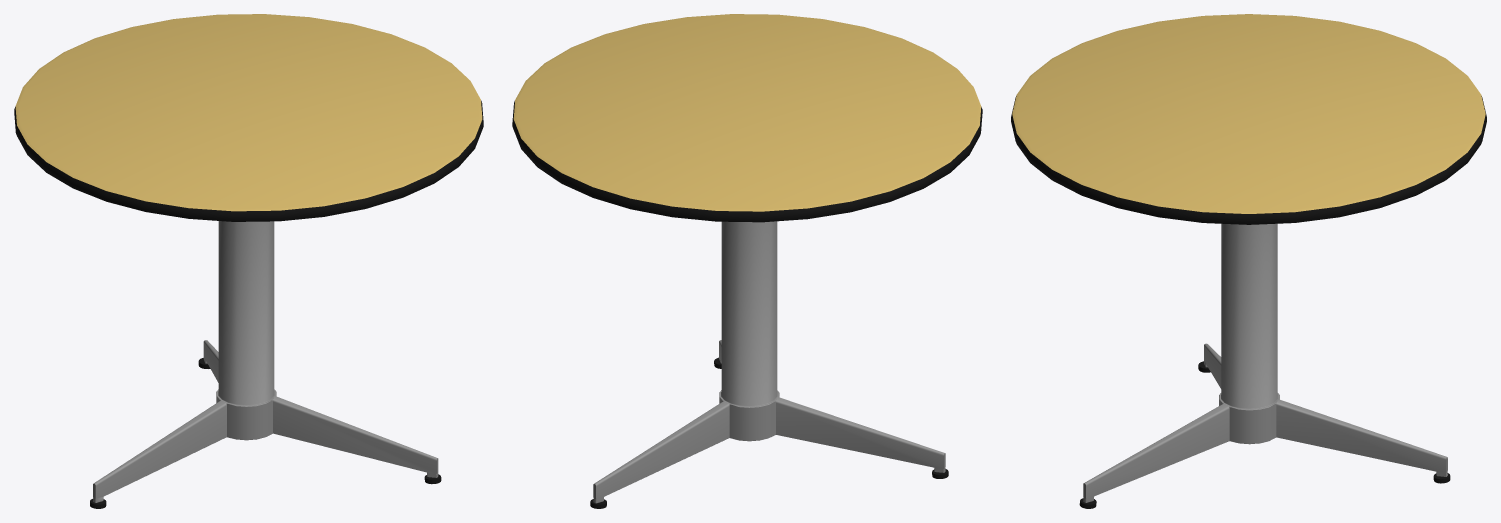
File: Table.FBX
3 views of the same model, side by side, from view 1: azimuth 30°, elevation 25°; view 2: azimuth 150°, elevation 25°; view 3: azimuth 270°, elevation 25° (orthographic).
Parts seen in each view (by area): view 1: table; view 2: table; view 3: table.
Part boxes in pixels (box(x1,y1,x2,y2)): table: box(14, 14, 483, 508); table: box(512, 14, 982, 508); table: box(1011, 14, 1486, 508).
Bounding box in the file's own units: 39.37 × 31.14 × 39.37.
Materials: 2 (1 with a texture image).
